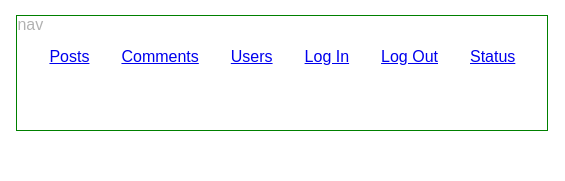
Test case: Forum Features › Has a Page for Logging Out
Click the link "Log Out". click: (410, 57)
box: [381,48,438,65]
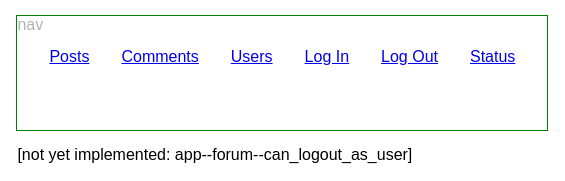
Expected: the text "[not yet implemented: app--forum--can_logout_as_user]" is shown, [17,146,412,163]
